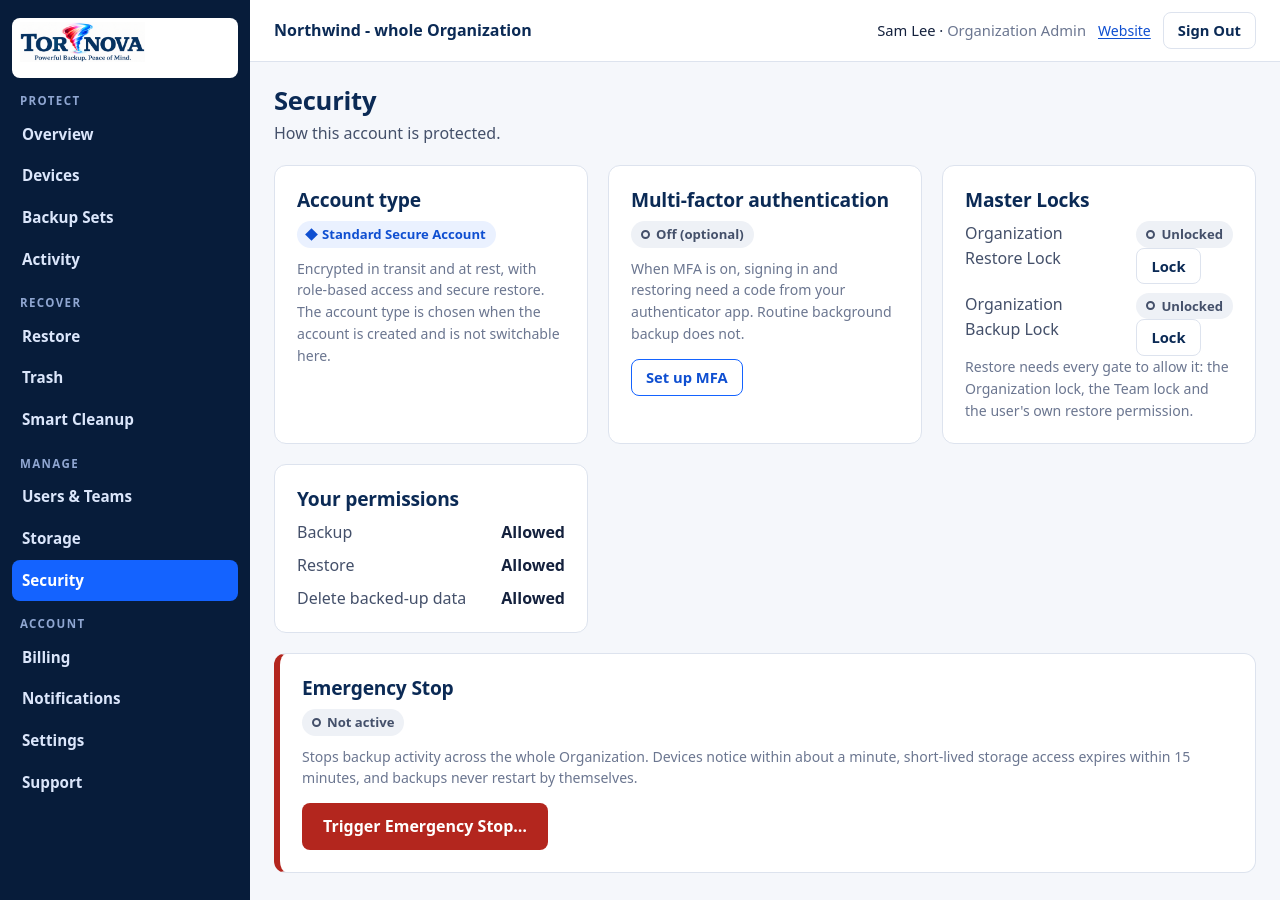
Scenario: changing a Restore Lock refreshes the restore answer at once, with no reload (S13B-FT1) › an Organization Admin who LOCKS the Organization Restore Lock sees Restore blocked, naming the lock, on the same page
The image size is (1280, 900).
Click the 1st button "Lock" at point(1168, 266), box [1136,248,1200,284]
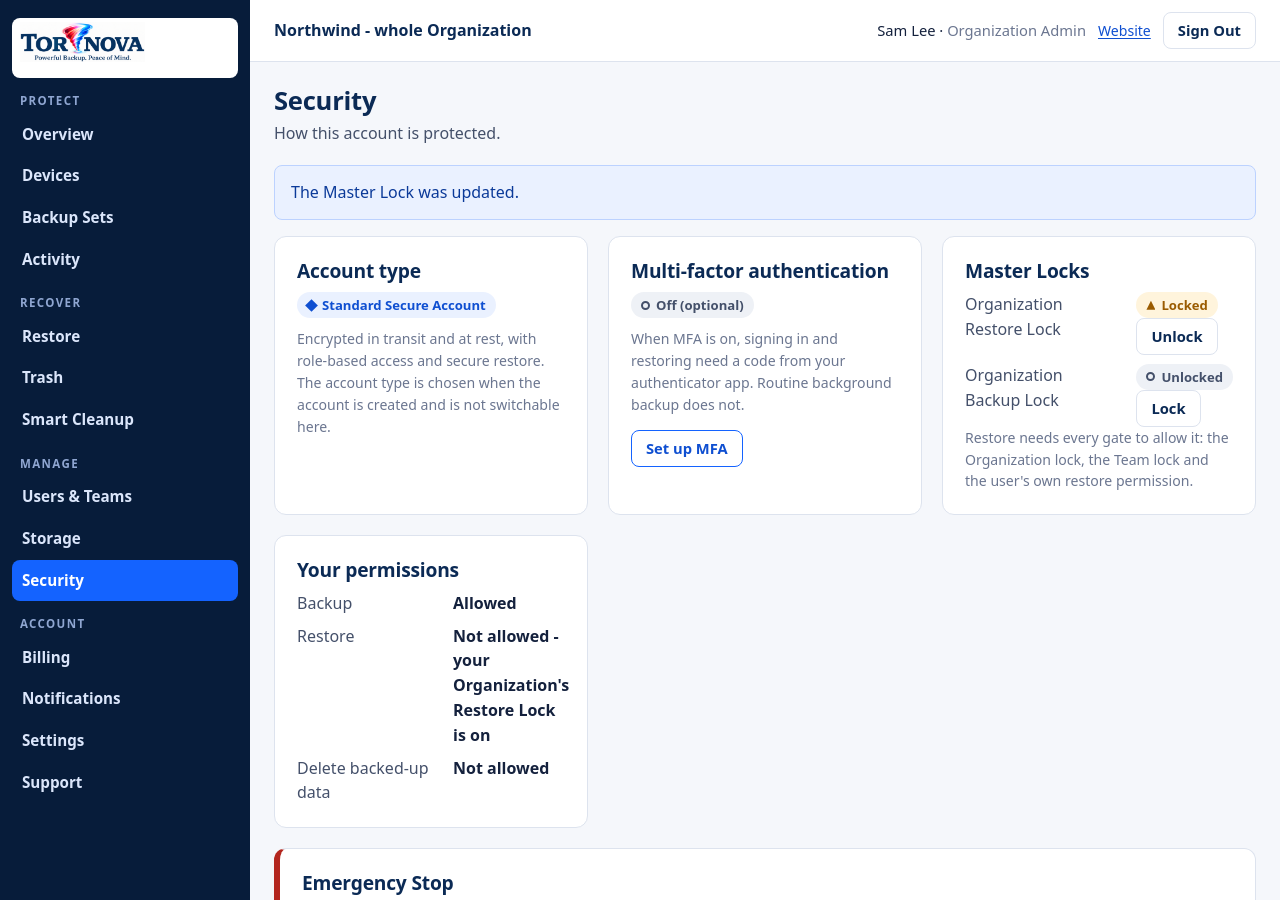
Expected: the text "Not allowed - your Organization's Restore Lock is on" is shown, [453,624,569,748]
